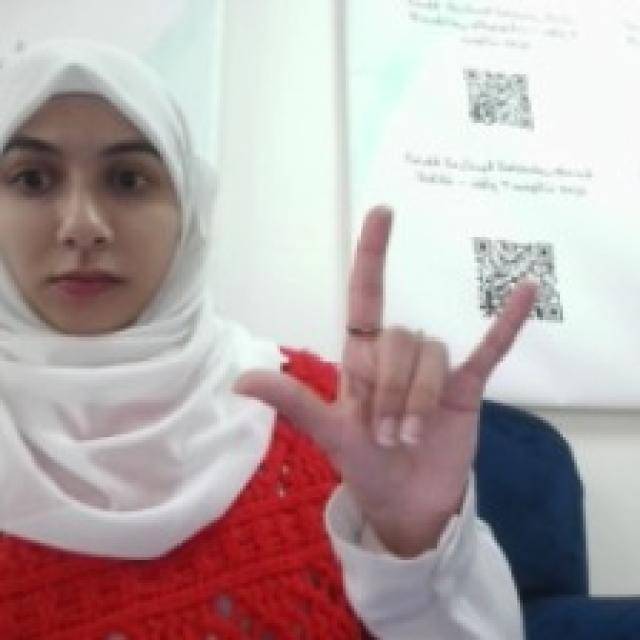love: (225, 194, 546, 512)
